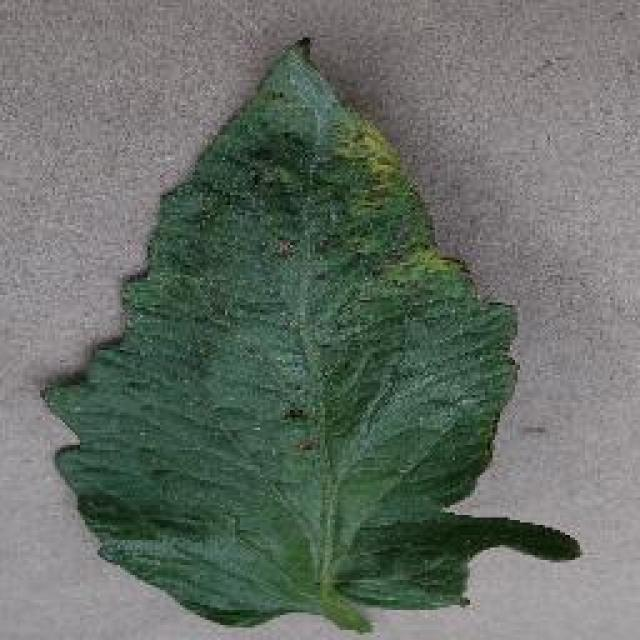Tomato bacterial spot leaf: (14, 21, 606, 634)
